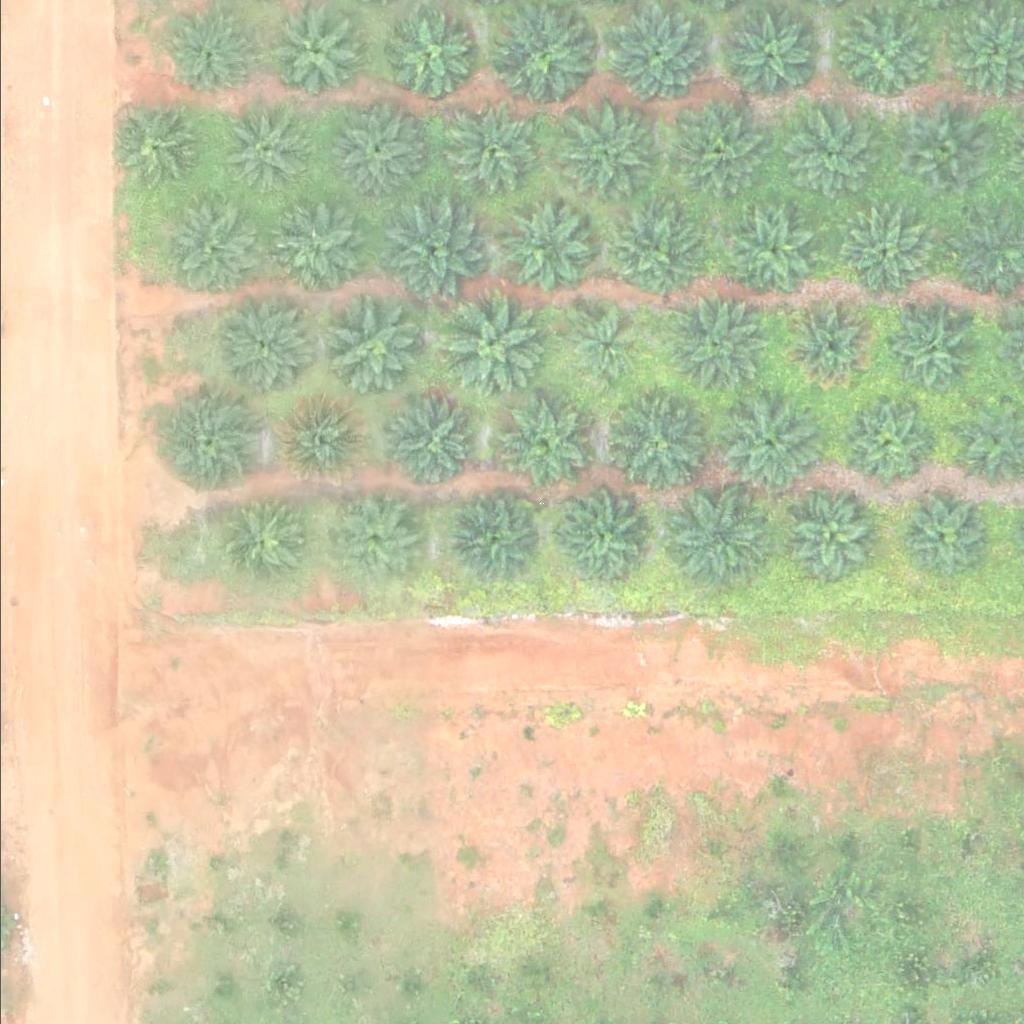Kelapa_Sawit: (438, 301, 539, 401), (718, 201, 819, 301), (602, 202, 703, 302), (378, 200, 479, 300), (782, 107, 883, 207), (665, 104, 766, 204), (556, 103, 657, 203), (439, 102, 540, 202), (323, 100, 424, 200), (605, 3, 706, 103), (492, 8, 593, 108), (165, 197, 266, 297), (317, 299, 418, 399), (213, 297, 314, 397), (159, 396, 260, 496), (669, 486, 769, 586), (717, 391, 817, 491), (603, 393, 703, 493), (665, 296, 765, 396), (895, 110, 983, 198), (896, 495, 984, 583), (786, 496, 874, 584), (499, 403, 587, 491), (389, 397, 477, 485), (839, 210, 927, 298), (381, 10, 469, 98), (268, 10, 356, 98), (162, 12, 250, 100), (222, 108, 310, 196), (112, 105, 200, 193), (278, 397, 366, 485), (215, 502, 303, 590), (882, 306, 970, 393), (549, 496, 637, 583), (452, 497, 540, 584), (326, 496, 414, 583), (843, 398, 931, 485), (785, 302, 873, 389), (503, 205, 591, 292), (836, 10, 924, 97), (721, 13, 809, 100), (275, 212, 363, 299), (561, 308, 637, 383)
